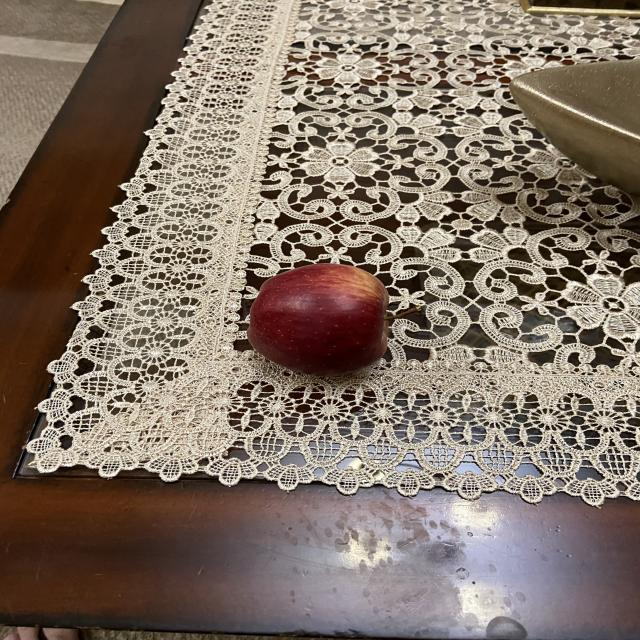apple: (244, 260, 398, 380)
